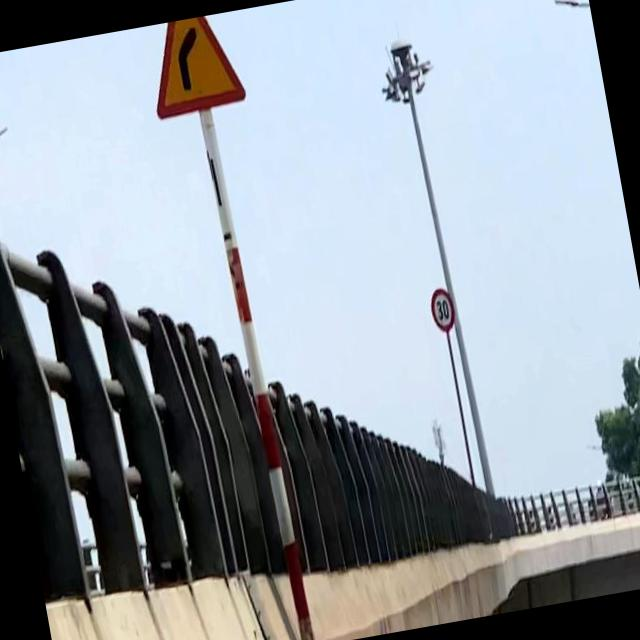P-127: (426, 286, 456, 332)
